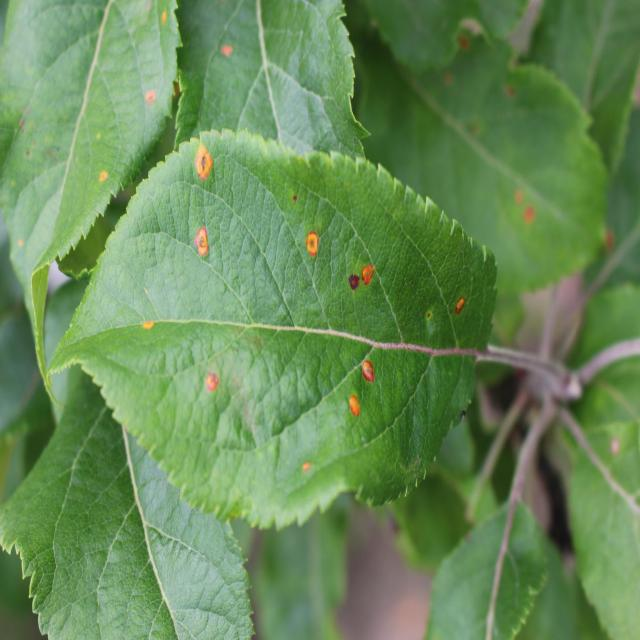Rust: (337, 389, 368, 444), (358, 248, 386, 306), (348, 348, 384, 388), (197, 353, 221, 408), (299, 216, 325, 256), (188, 149, 220, 181), (186, 229, 214, 265), (140, 80, 163, 123), (214, 40, 245, 69), (451, 286, 472, 328), (291, 449, 322, 475), (138, 314, 160, 338), (91, 169, 117, 185), (160, 7, 170, 29)
